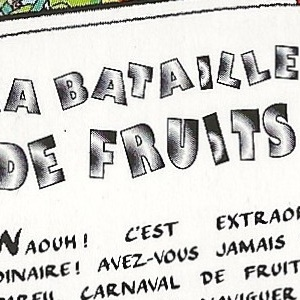Charlie: (125, 93, 175, 207)
